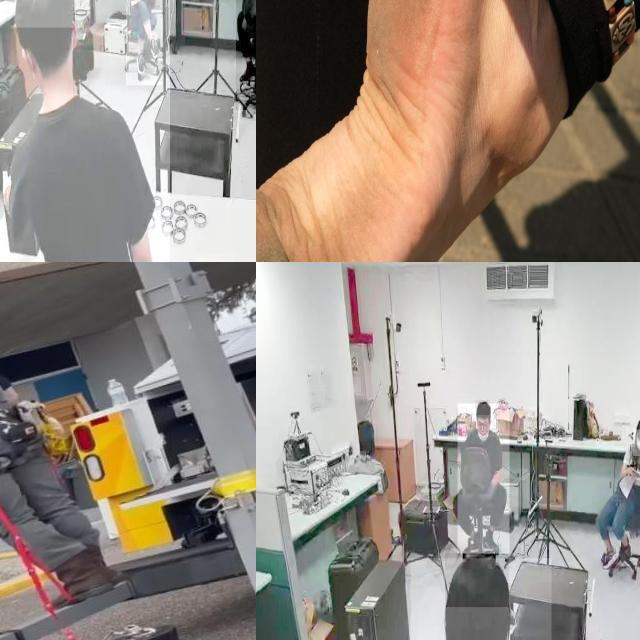Barefoots: (256, 0, 502, 262)
face_mask: (633, 429, 640, 455)
hand_noglove: (626, 465, 636, 477), (634, 470, 640, 486)
head_nohelmet: (445, 553, 509, 608), (14, 0, 73, 27), (476, 400, 490, 416), (635, 416, 640, 431)
person: (0, 0, 170, 262), (410, 558, 551, 640), (458, 404, 510, 554), (595, 415, 640, 573), (126, 0, 162, 85)
shoes: (481, 526, 501, 554), (600, 546, 620, 573), (237, 60, 256, 86), (620, 526, 632, 560), (134, 49, 148, 77), (148, 37, 162, 63)
